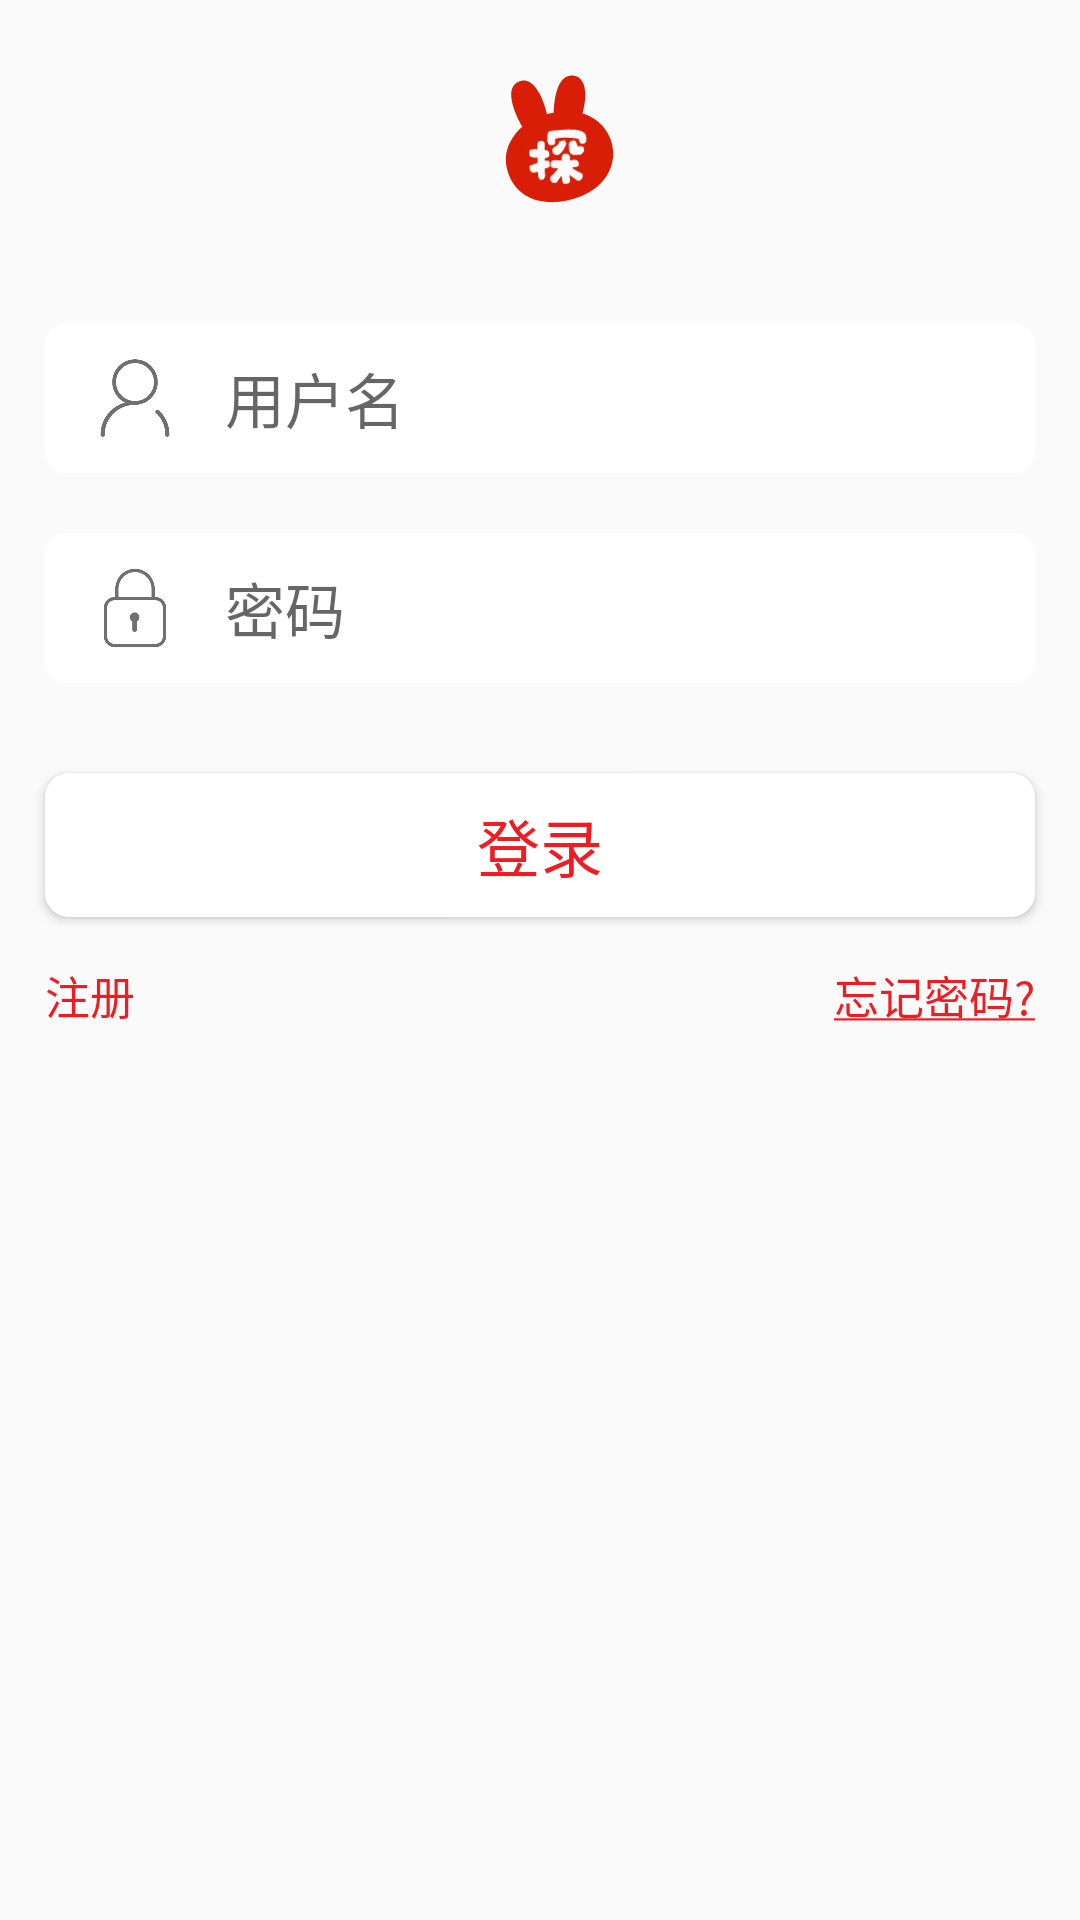

Icon bounding boxes for this 1080px x 1920px phone screenshot, format {"left": x1, "top": y1, "right": x2, "bottom": y2}:
login account: {"left": 100, "top": 359, "right": 170, "bottom": 437}
login pwd: {"left": 104, "top": 569, "right": 166, "bottom": 647}
